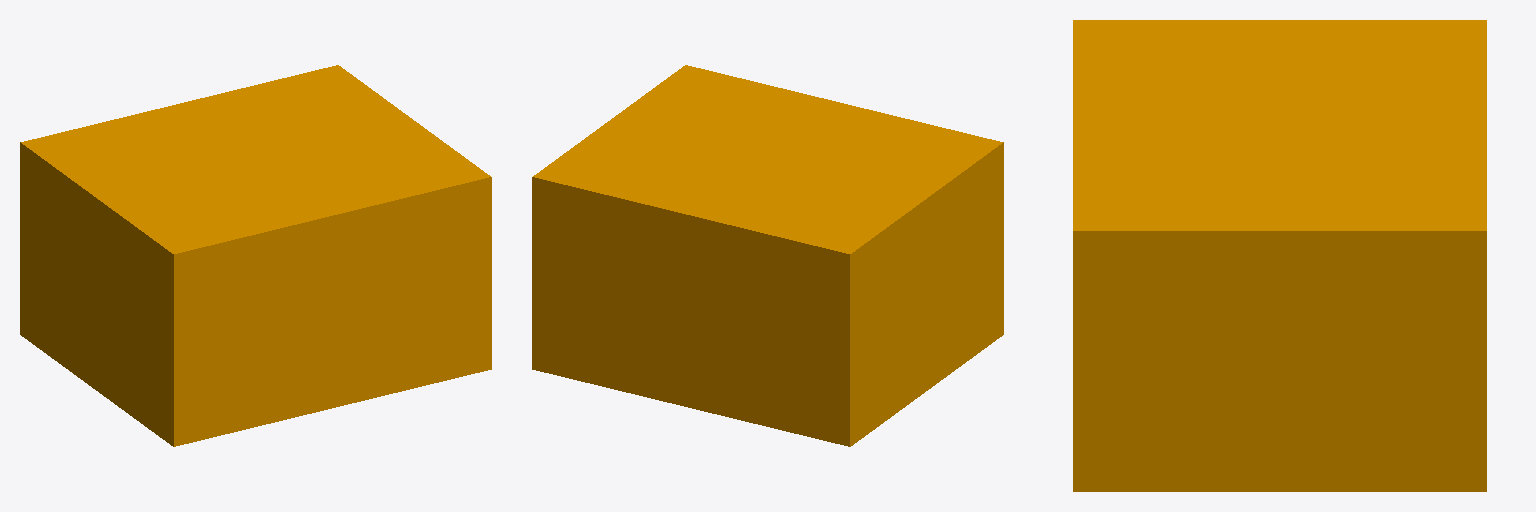
URDF robot description (object):
<?xml version="1.0"?>
<!-- Auto-generated by tools/gen_primitive_objects.py. kind=box dims=(0.087175, 0.072724, 0.050475) -->
<robot name="object">
  <link name="object">
    <visual>
      <origin xyz="0 0 0"/>
      <geometry>
        <box size="0.087175 0.072724 0.050475"/>
      </geometry>
    </visual>
    <collision>
      <origin xyz="0 0 0"/>
      <geometry>
        <box size="0.087175 0.072724 0.050475"/>
      </geometry>
    </collision>
    <inertial>
      <mass value="0.063999"/>
      <inertia ixx="0.00004179" ixy="0.0" ixz="0.0" iyy="0.00005412" iyz="0.0" izz="0.00006874"/>
    </inertial>
  </link>
</robot>

--- Facts derived from the render (not from the file) ---
The picture shows the robot from 3 angles, left to right: view 1: azimuth 30°, elevation 25°; view 2: azimuth 150°, elevation 25°; view 3: azimuth 270°, elevation 25°; orthographic projection.
Model object with 1 links and 0 joints (none), rooted at object, posed all joints at 0.
Links seen in each view (by area): view 1: object; view 2: object; view 3: object.
Boxes of the visible links, left/top/right/bottom form: object: left=20, top=65, right=491, bottom=446; object: left=532, top=65, right=1003, bottom=446; object: left=1073, top=20, right=1486, bottom=491.
Size in the robot's own frame: 0.0872 by 0.0727 by 0.0505 metres.
Geometry: primitives only (box / cylinder / sphere), no mesh files.
